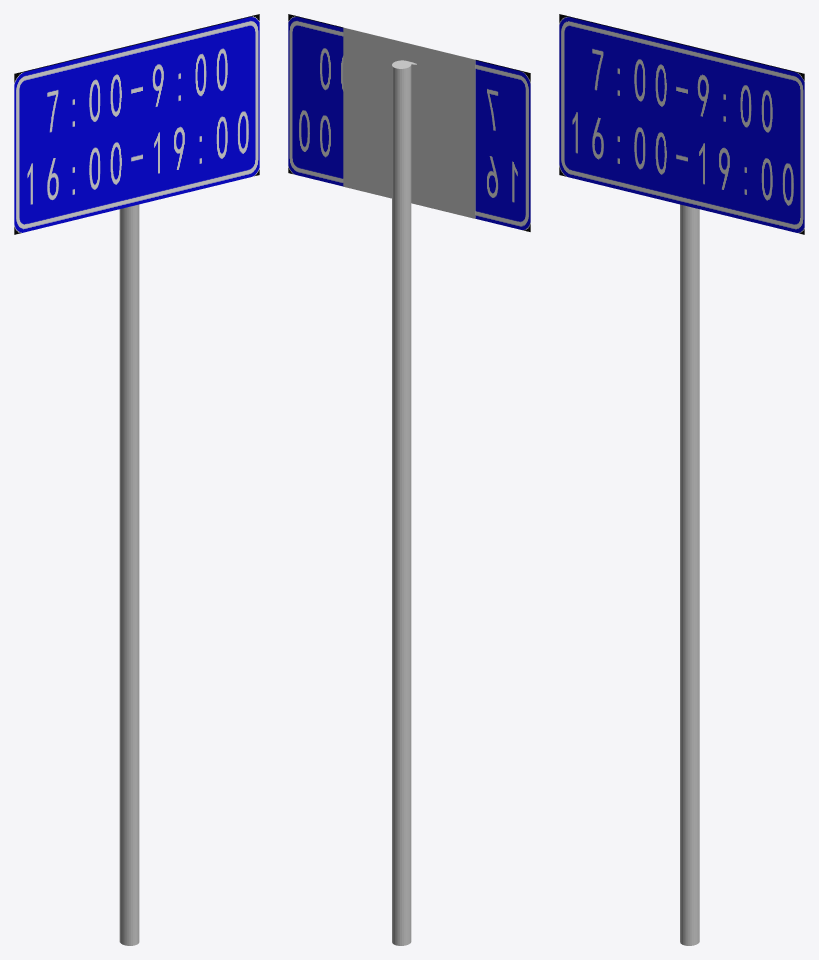
The picture shows the model from 3 angles, left to right: view 1: azimuth 30°, elevation 25°; view 2: azimuth 150°, elevation 25°; view 3: azimuth 330°, elevation 25°; orthographic projection.
Parts seen in each view (by area): view 1: SM_zhishipai_05; view 2: SM_zhishipai_05; view 3: SM_zhishipai_05.
Part boxes in pixels (x1=…): SM_zhishipai_05: x1=14, y1=14, x2=259, y2=945; SM_zhishipai_05: x1=288, y1=14, x2=530, y2=945; SM_zhishipai_05: x1=559, y1=14, x2=804, y2=945.
Bounding box in the file's own units: 4.69 × 16.52 × 0.4286.
Materials: 2 (1 with a texture image).
